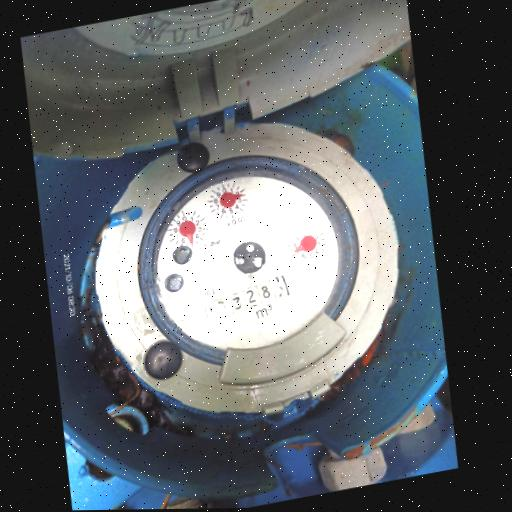0: (199, 300, 221, 325)
1: (268, 274, 290, 299)
2: (243, 285, 263, 308)
3: (227, 291, 250, 315), (213, 297, 234, 320)
8: (257, 280, 277, 303)
border_water_meter_number: (193, 269, 298, 329)
